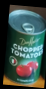tomatoes: (5, 9, 45, 85)
